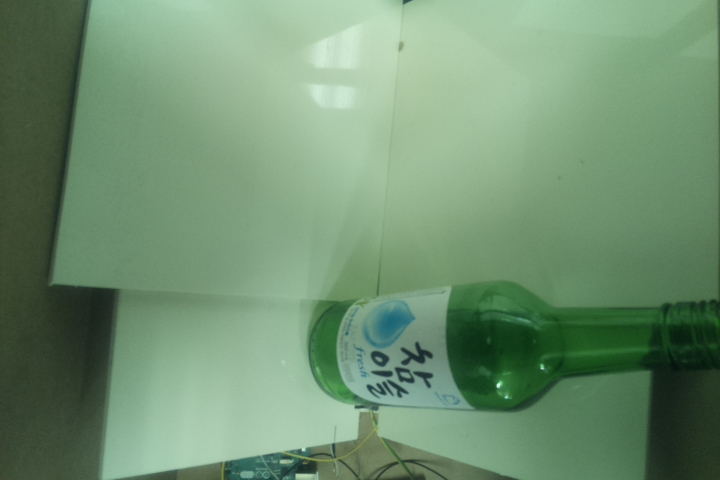soju: (308, 280, 720, 416)
